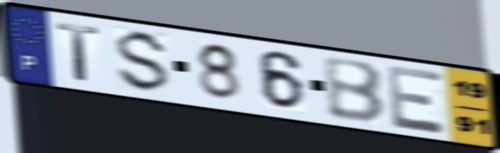6: (256, 49, 309, 113)
8: (195, 41, 244, 103)
B: (320, 56, 389, 126)
E: (385, 63, 450, 137)
S: (113, 29, 173, 95)
T: (53, 20, 104, 84)
